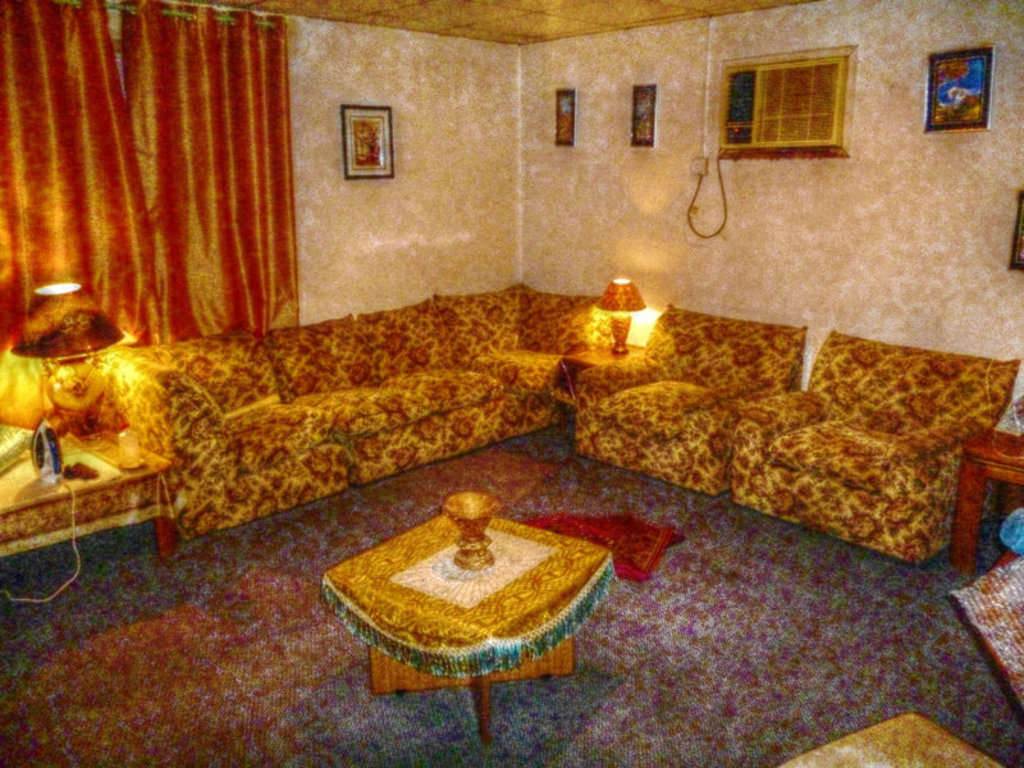Couch: (96, 285, 609, 561)
